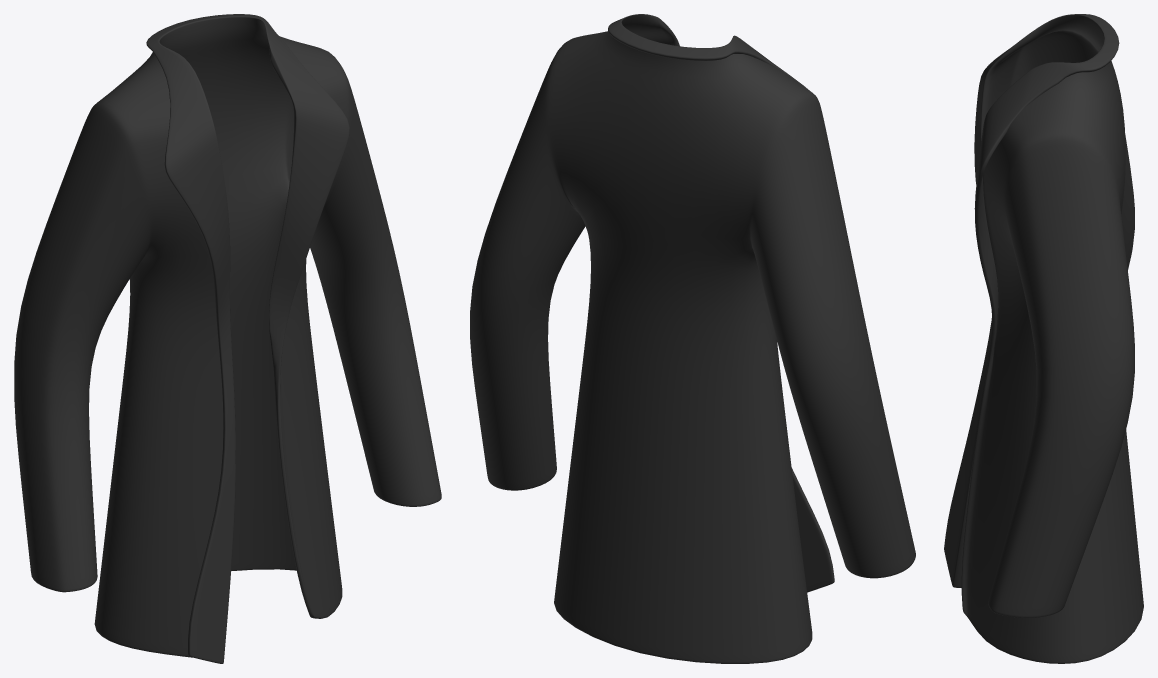
File: Palto.fbx
3 renders of one model, left to right at view 1: azimuth 30°, elevation 25°; view 2: azimuth 150°, elevation 25°; view 3: azimuth 270°, elevation 25°, orthographic. The views are drawn at different scales.
Parts seen in each view (by area): view 1: Cube; view 2: Cube; view 3: Cube.
Boxes of the visible parts, bbox=[...] form: Cube: bbox=[14, 14, 441, 663]; Cube: bbox=[470, 14, 915, 663]; Cube: bbox=[944, 14, 1143, 663].
Size of the model in its own units: 418 by 579 by 183.
Materials: 1 (1 with a texture image).
